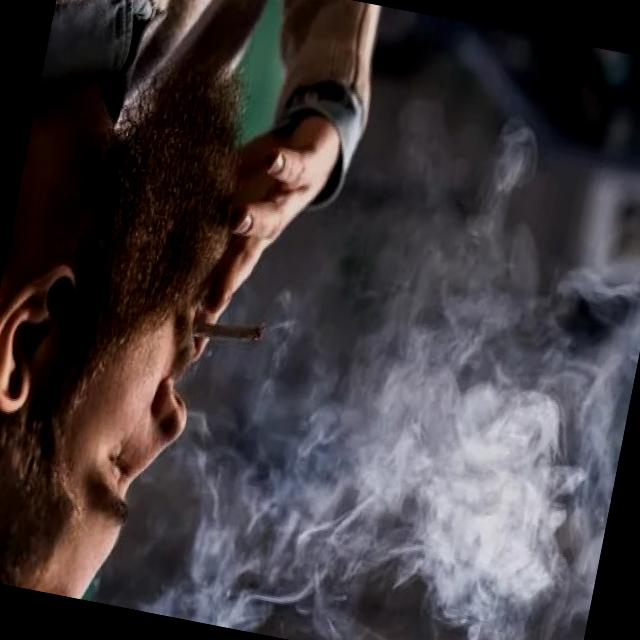smoke: (181, 309, 270, 358)
